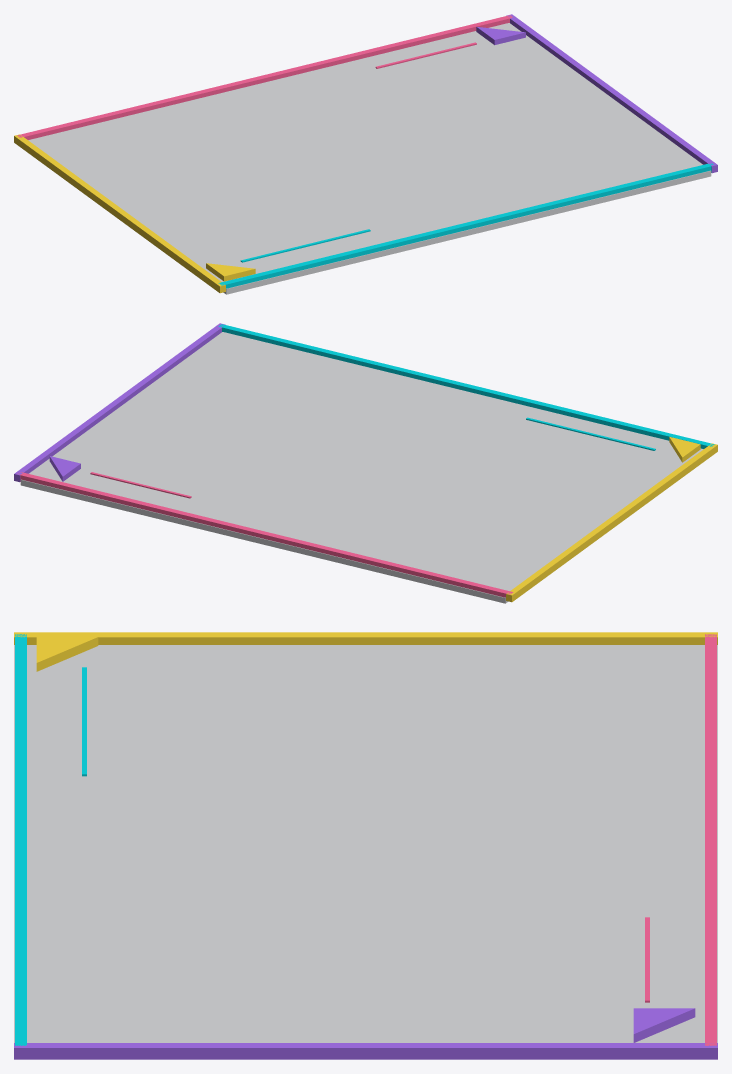
Rendered from Display_Base_Block.fbx.
The picture shows the model from 3 angles, top to bottom: view 1: azimuth 30°, elevation 25°; view 2: azimuth 150°, elevation 25°; view 3: azimuth 270°, elevation 25°; orthographic projection. The views are drawn at different scales.
Parts seen in each view (by area): view 1: Display_Base_Block; view 2: Display_Base_Block; view 3: Display_Base_Block.
Boxes of the visible parts, bbox=[...] form: Display_Base_Block: bbox=[14, 14, 717, 294]; Display_Base_Block: bbox=[14, 323, 717, 603]; Display_Base_Block: bbox=[14, 632, 717, 1059].
Bounding box in the file's own units: 3492 × 83.5 × 2500.
